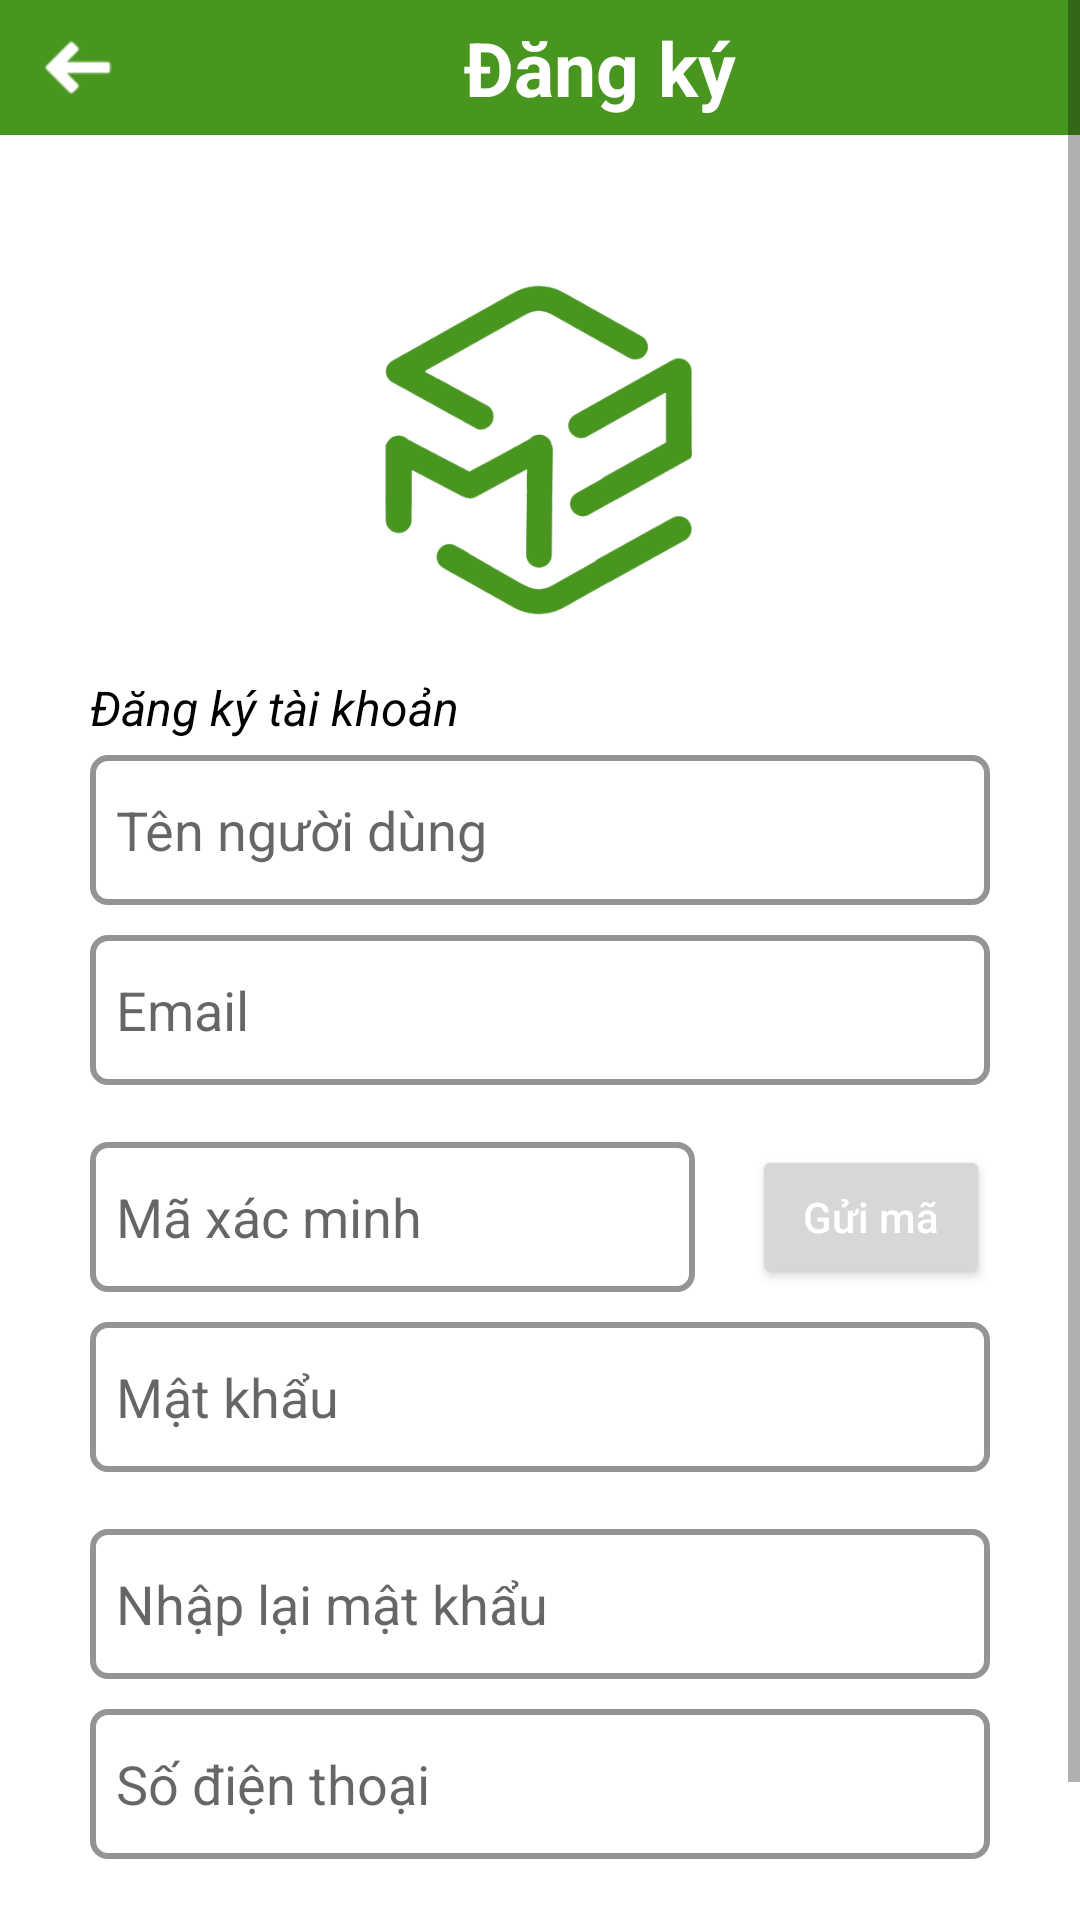

Where icons sit on this 1080px×1920px app screen, as {"x1": x1, "y1": y1, "x2": x2, "y2": y2}:
back: {"x1": 45, "y1": 41, "x2": 112, "y2": 94}
